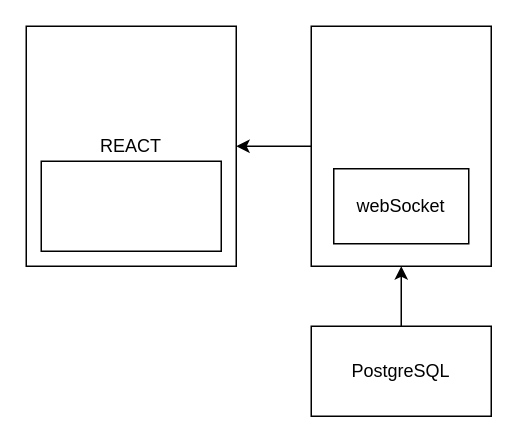
The diagram is 518 pixels wide and 443 high, and some of its shapes have lost their labels. Each missing label, with the box of its shape:
node.js: (310, 25, 491, 266)
REDUX: (40, 160, 221, 251)
